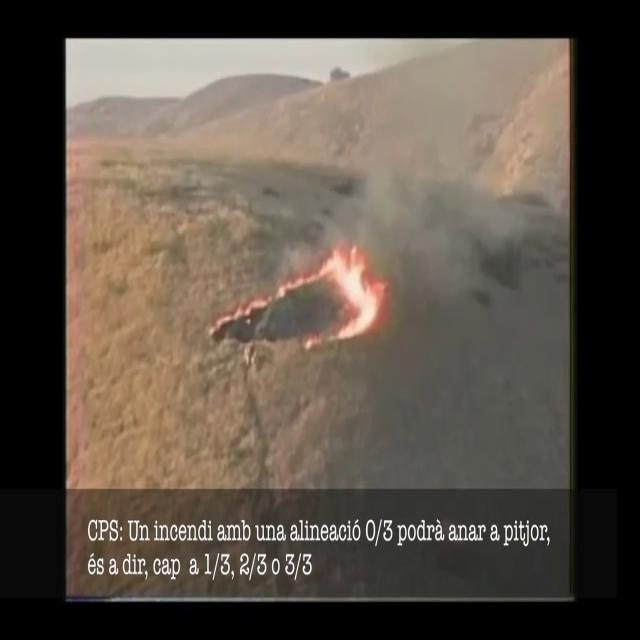Fire: (296, 236, 388, 339)
Smoke: (327, 40, 559, 280)
